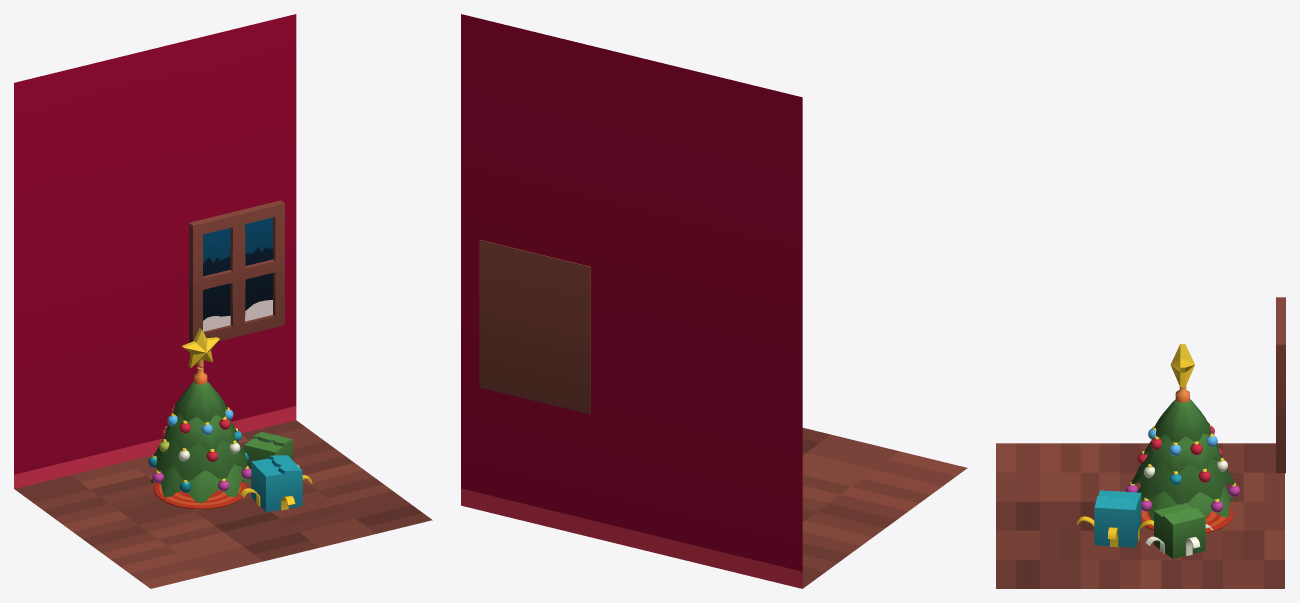
The model's file is ChristmasScene.fbx.
3 renders of one model, left to right at view 1: azimuth 30°, elevation 25°; view 2: azimuth 150°, elevation 25°; view 3: azimuth 270°, elevation 25°, orthographic. The views are drawn at different scales.
Parts seen in each view (by area): view 1: RedWall, Window, ChristmasTree, Gift01, Gift02, Cylinder.014, StarOrnament; view 2: RedWall, Window; view 3: RedWall, ChristmasTree, Gift01, Gift02, Window, StarOrnament, Cylinder.014.
Part boxes in pixels (x1,y1,x2,y2): RedWall: (14, 14, 432, 588); Window: (189, 200, 284, 342); ChristmasTree: (148, 367, 251, 503); Gift01: (240, 455, 312, 512); Gift02: (244, 432, 299, 478); Cylinder.014: (153, 481, 246, 509); StarOrnament: (182, 328, 219, 367); RedWall: (461, 14, 967, 588); Window: (479, 239, 590, 414); RedWall: (996, 443, 1284, 588); ChristmasTree: (1125, 386, 1239, 520); Gift01: (1076, 490, 1153, 547); Gift02: (1145, 503, 1213, 558); Window: (1276, 297, 1285, 473); StarOrnament: (1170, 344, 1194, 387); Cylinder.014: (1141, 505, 1233, 532).
Bounding box in the file's own units: 841 × 1169 × 707.
